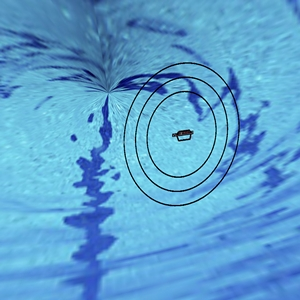circle: (113, 45, 245, 216)
submarine: (164, 121, 199, 148)
